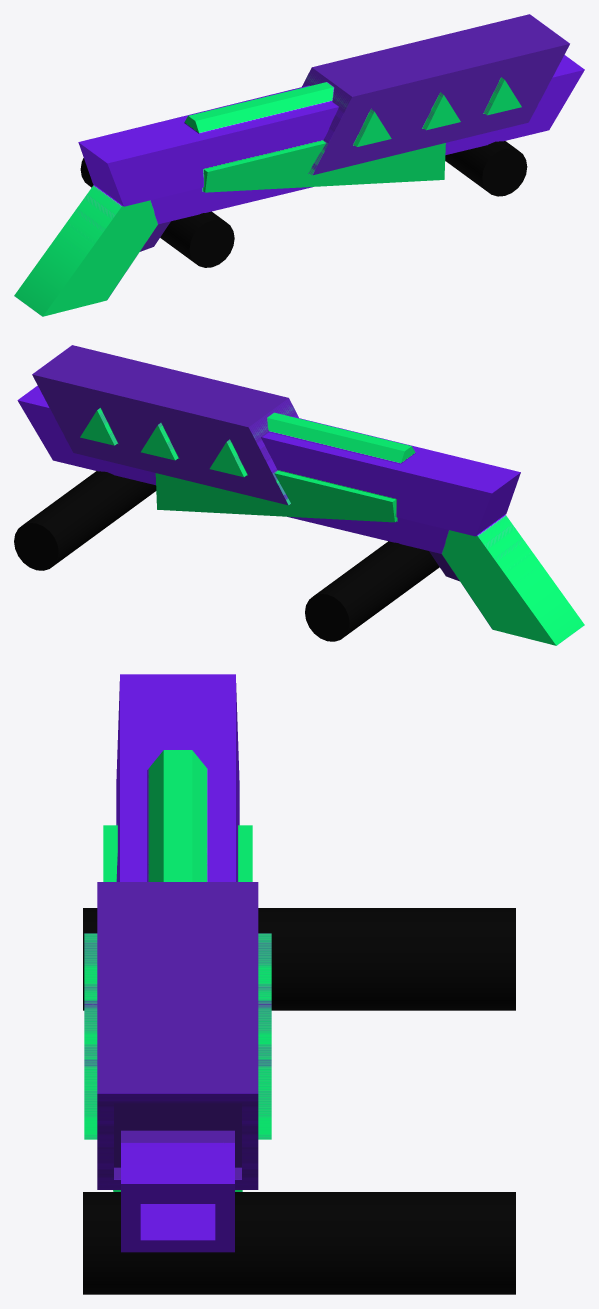
The model's file is SM_Wall_Gun_2.fbx.
3 renders of one model, top to bottom at view 1: azimuth 30°, elevation 25°; view 2: azimuth 150°, elevation 25°; view 3: azimuth 270°, elevation 25°, orthographic. The views are drawn at different scales.
Parts seen in each view (by area): view 1: pasted__pCylinder5; view 2: pasted__pCylinder5; view 3: pasted__pCylinder5.
Boxes of the visible parts, <box> form: pasted__pCylinder5: <box>14,14,584,316</box>; pasted__pCylinder5: <box>14,345,584,645</box>; pasted__pCylinder5: <box>83,674,515,1294</box>.
Size of the model in its own units: 40.75 by 10.78 by 14.18.
Materials: 2 (1 with a texture image).
